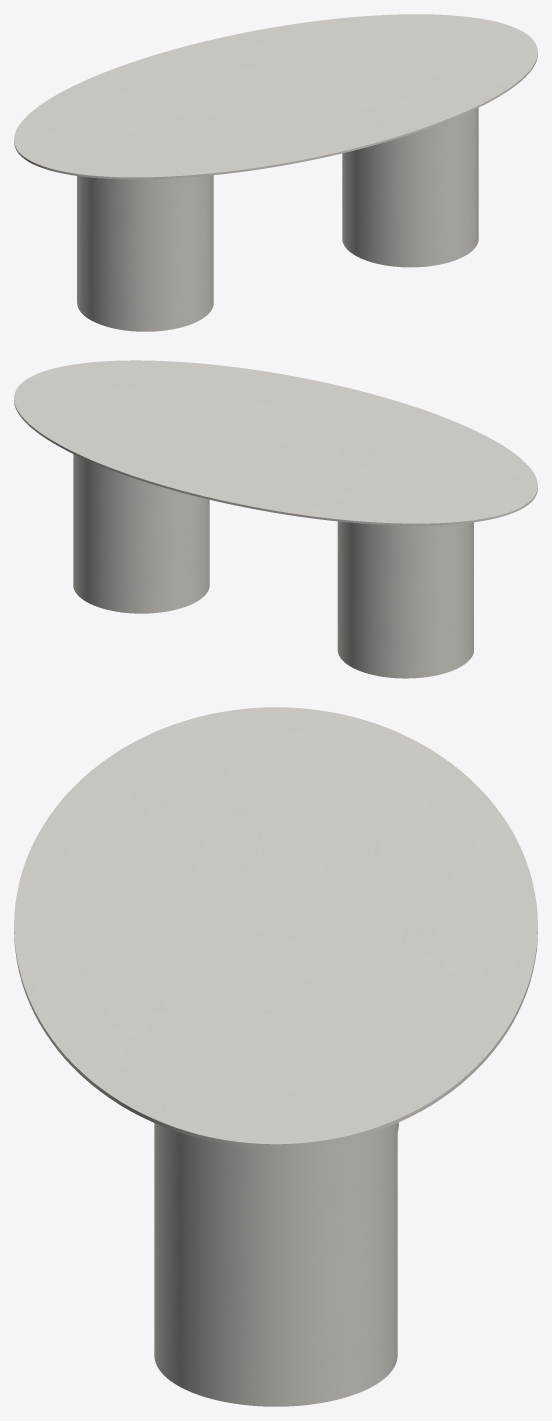
The model's file is pearlwhite_ellips_facet_stream.glb.
3 renders of one model, top to bottom at view 1: azimuth 30°, elevation 25°; view 2: azimuth 150°, elevation 25°; view 3: azimuth 270°, elevation 25°, orthographic. The views are drawn at different scales.
Visible parts, largest first — view 1: facet_ellips, stream; view 2: facet_ellips, stream; view 3: facet_ellips, stream.
Part boxes in pixels (left/top/right/bottom): facet_ellips: left=14, top=14, right=537, bottom=179; stream: left=77, top=108, right=478, bottom=331; facet_ellips: left=14, top=360, right=537, bottom=525; stream: left=73, top=454, right=473, bottom=678; facet_ellips: left=14, top=707, right=537, bottom=1147; stream: left=154, top=1122, right=398, bottom=1406.
Bounding box in the file's own units: 7.5 × 2.5 × 3.8.
Materials: 1 (1 with a texture image).
